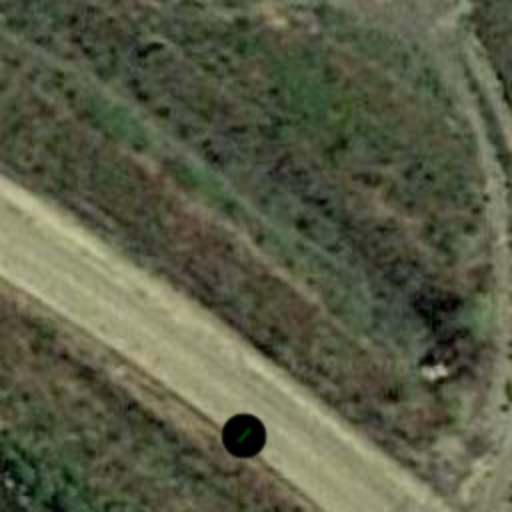circle: (210, 402, 278, 470)
